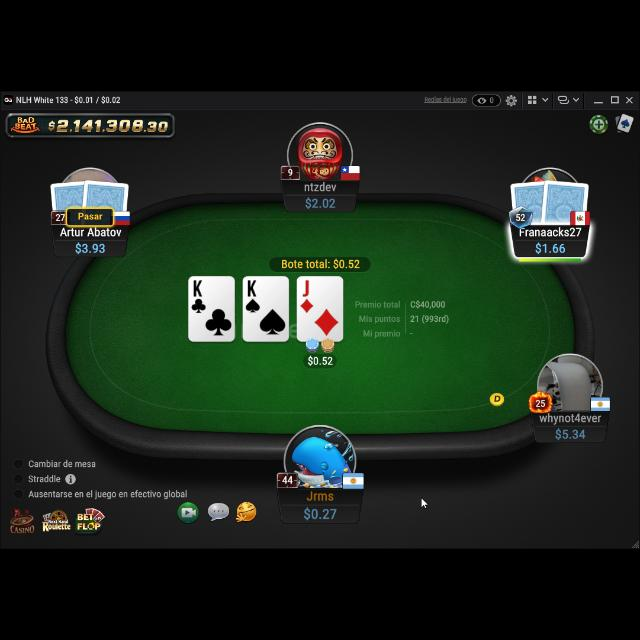Jd: (298, 278, 316, 316)
Kc: (190, 277, 208, 315)
Ks: (244, 277, 262, 315)
bet_text: (306, 355, 334, 367)
card_back: (538, 178, 592, 228), (80, 177, 130, 226), (508, 179, 554, 227), (48, 179, 92, 223)
dealer: (487, 390, 508, 410), (488, 390, 508, 408)
pot_text: (280, 259, 362, 271)
stack_text: (301, 504, 339, 522), (533, 240, 567, 256), (304, 195, 338, 211), (74, 241, 108, 255), (553, 426, 587, 440)
